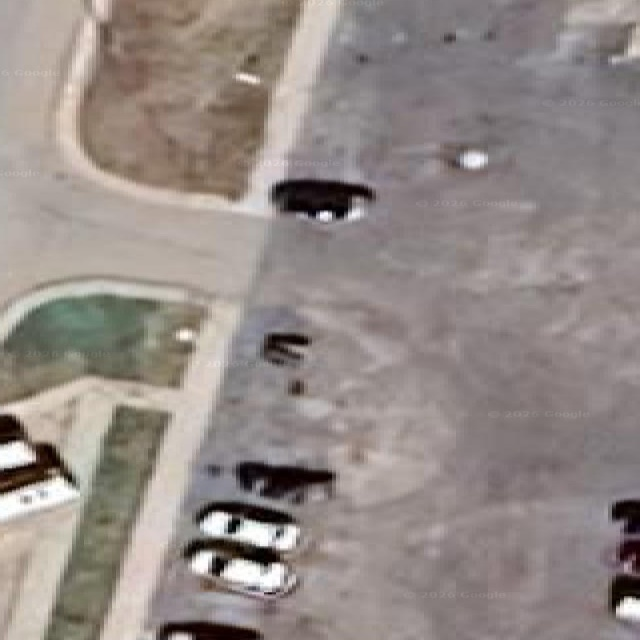car: (185, 543, 297, 598), (0, 444, 78, 522), (197, 503, 301, 553), (270, 179, 374, 223), (235, 461, 335, 502), (0, 415, 35, 471), (156, 622, 261, 639), (609, 574, 639, 623), (611, 499, 639, 534), (617, 537, 639, 574), (611, 499, 640, 521)
